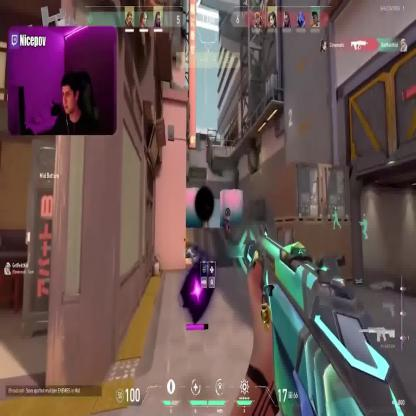enemy: (224, 207, 232, 235), (202, 204, 210, 230)
enemy_head: (225, 208, 230, 216)
